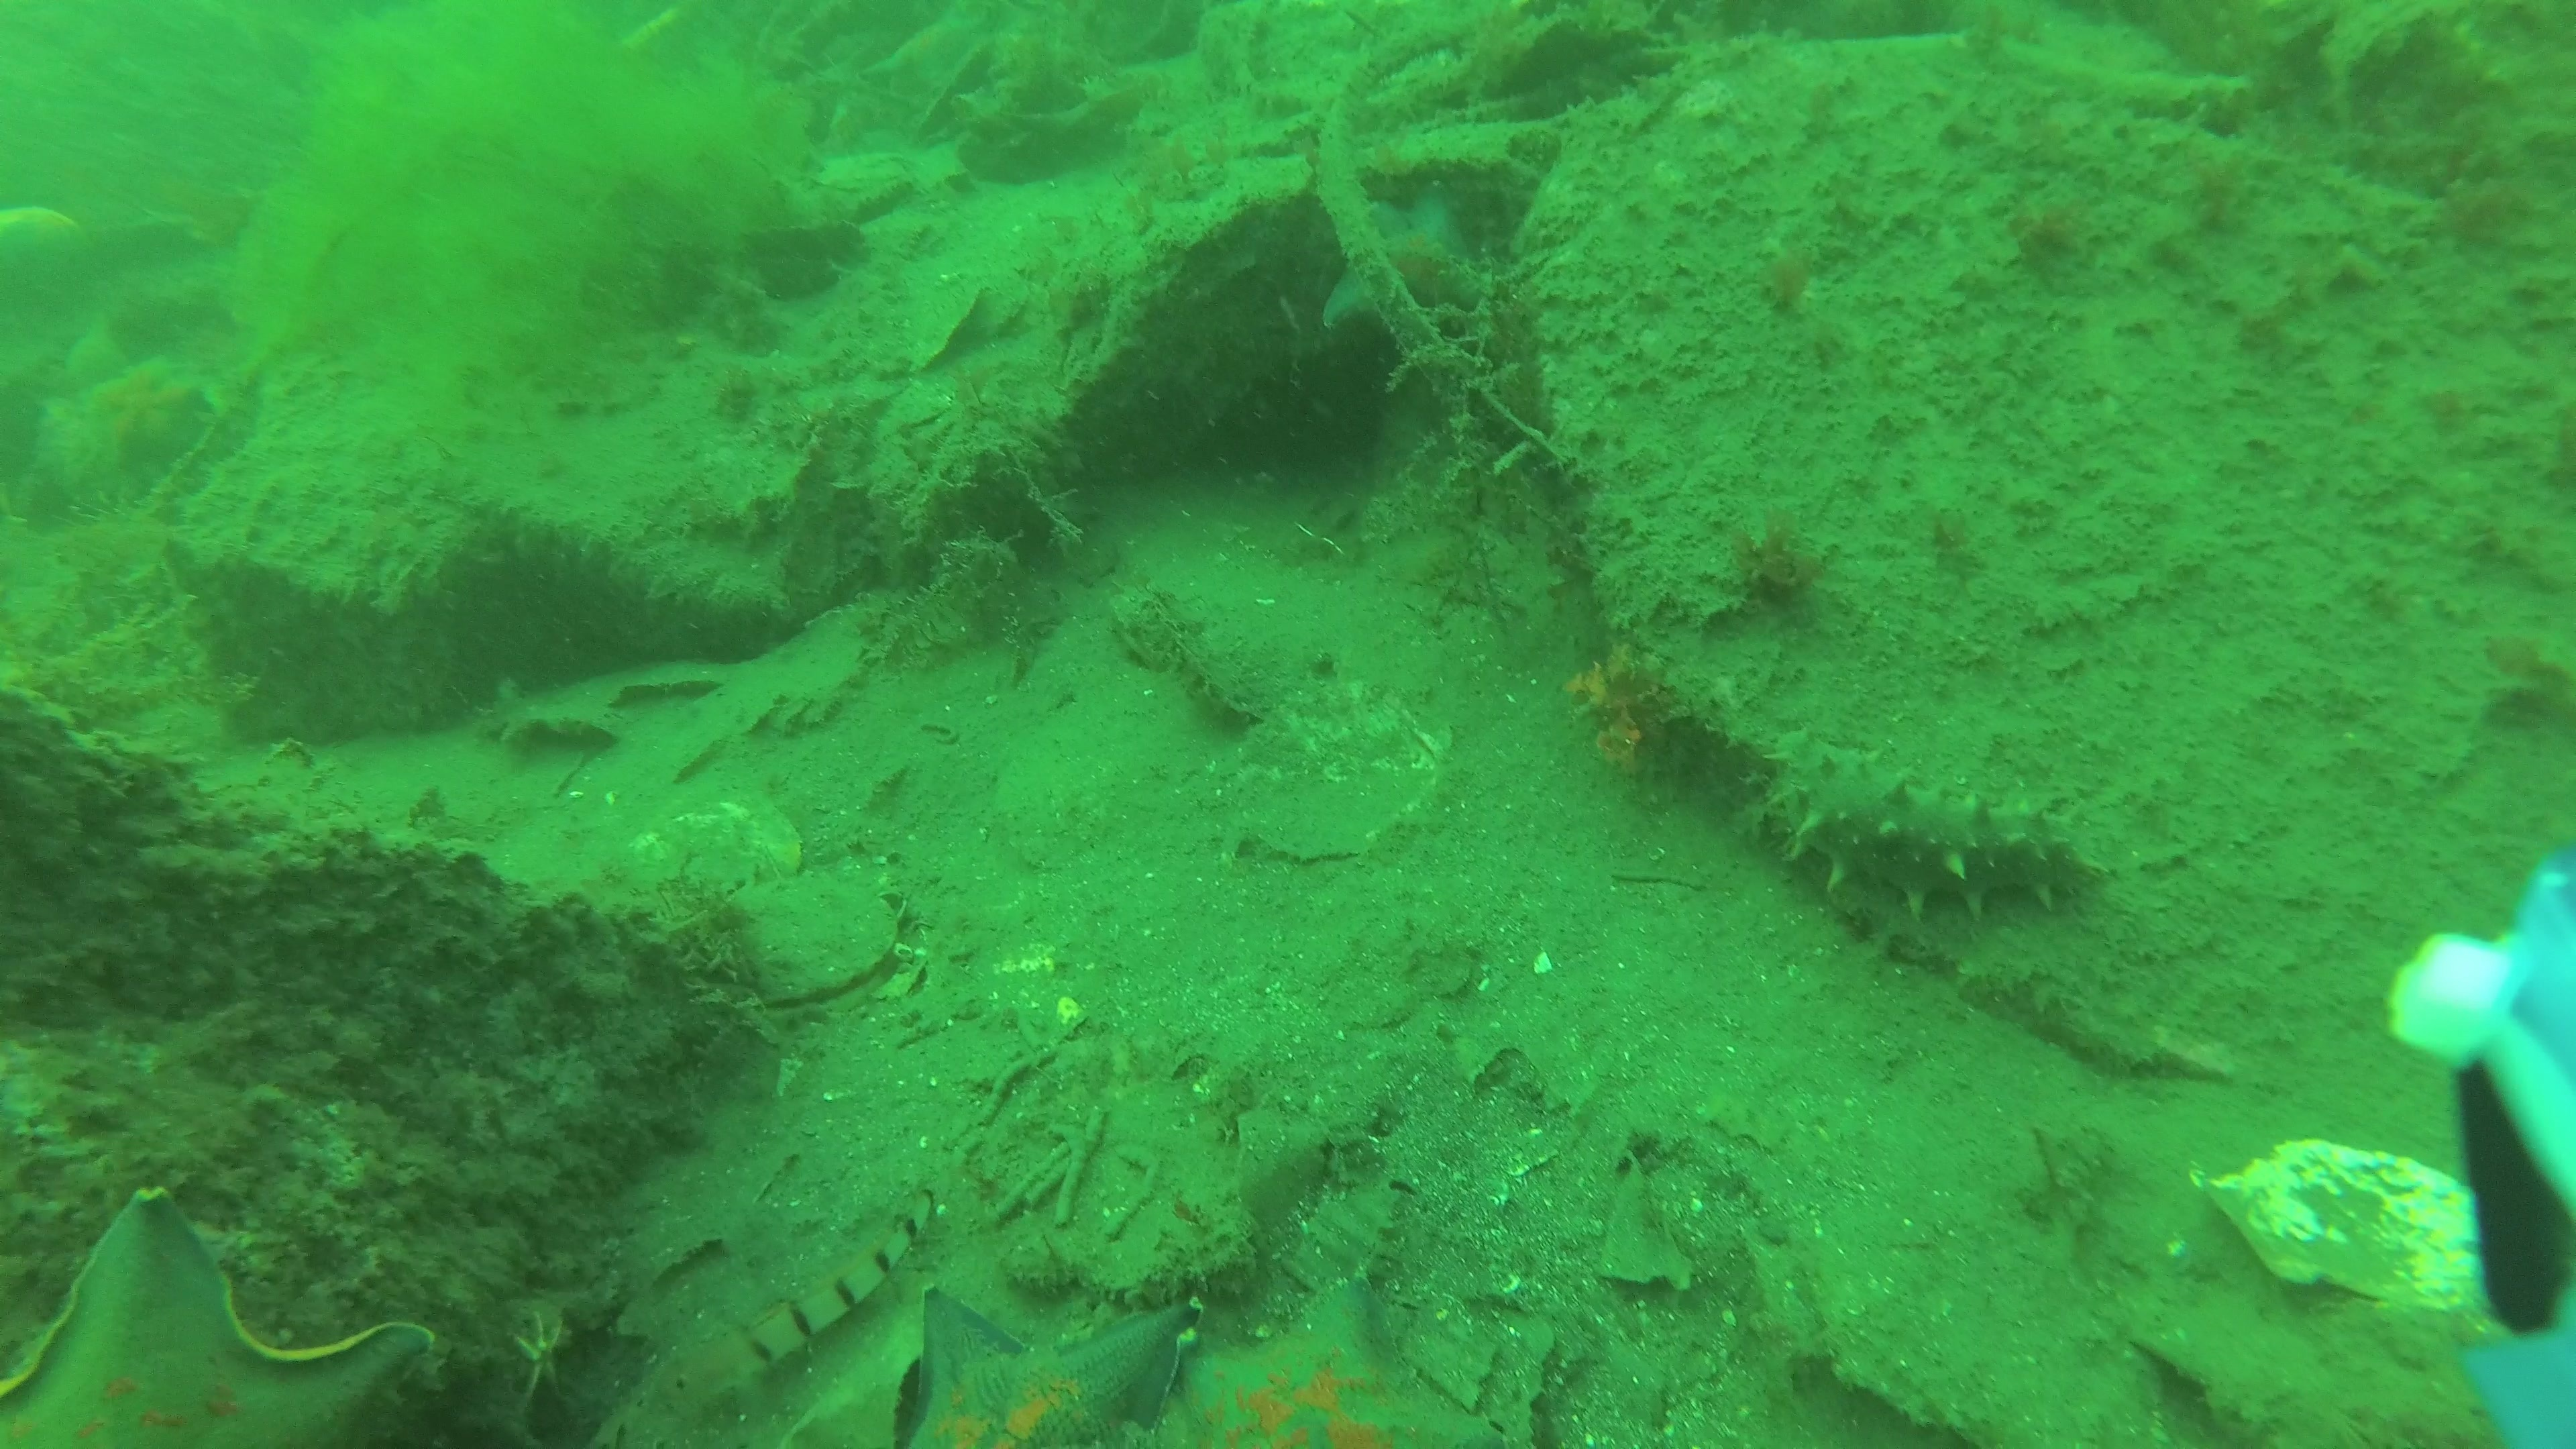holothurian: (1746, 725, 2104, 927)
scallop: (2190, 1138, 2526, 1325), (1217, 685, 1447, 860), (609, 800, 807, 934), (718, 872, 902, 1008)
starfish: (4, 1187, 432, 1449), (1175, 1276, 1513, 1444), (902, 1286, 1194, 1449), (1327, 186, 1484, 340), (101, 357, 191, 449), (502, 1313, 575, 1415)
